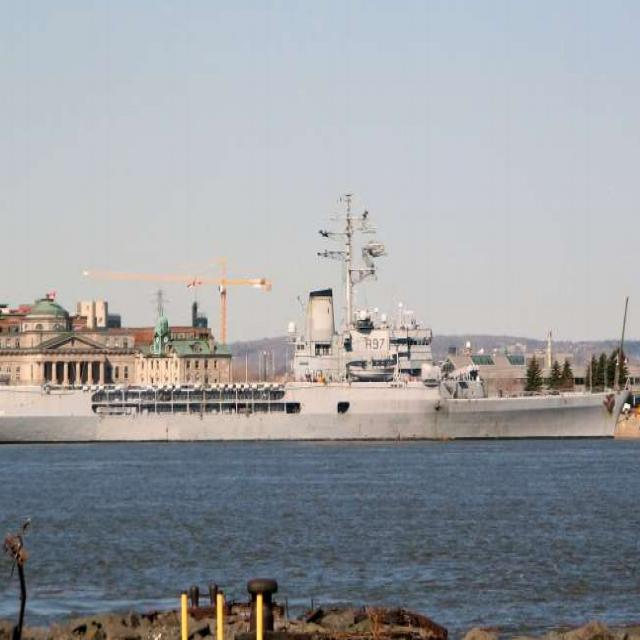Portanaves: (1, 190, 632, 452)
